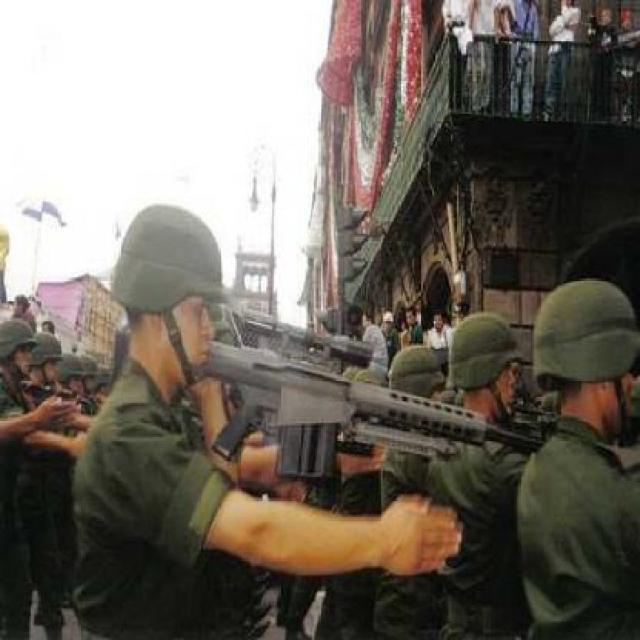weapon: (182, 316, 536, 492)
